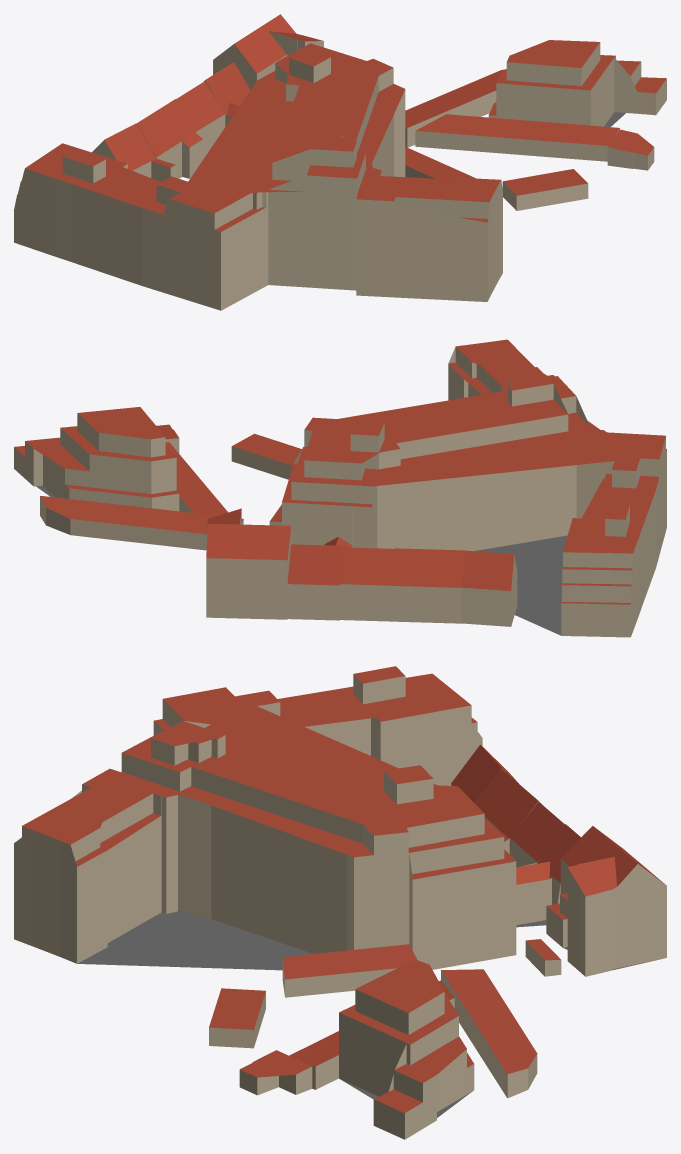
The model's file is ingolstadt_50_lod2_buildings.obj.
3 renders of one model, top to bottom at view 1: azimuth 30°, elevation 25°; view 2: azimuth 150°, elevation 25°; view 3: azimuth 270°, elevation 25°, orthographic. The views are drawn at different scales.
Visible parts, largest first — view 1: bldg_DEBY_L2_4392429, bldg_DEBY_L2_107777145, bldg_DEBY_L2_4392842, bldg_DEBY_L2_4392510, bldg_DEBY_L2_4392434, bldg_DEBY_L2_104848284, bldg_DEBY_L2_4392841, bldg_DEBY_L2_4392432, bldg_DEBY_L2_4392435, bldg_DEBY_L2_4392882, bldg_DEBY_L2_4392436, bldg_DEBY_L2_4392840; view 2: bldg_DEBY_L2_4392429, bldg_DEBY_L2_107777145, bldg_DEBY_L2_4392510, bldg_DEBY_L2_104848284, bldg_DEBY_L2_4392434, bldg_DEBY_L2_4392436, bldg_DEBY_L2_4392432, bldg_DEBY_L2_4392435, bldg_DEBY_L2_4392841, bldg_DEBY_L2_4392842; view 3: bldg_DEBY_L2_4392429, bldg_DEBY_L2_107777145, bldg_DEBY_L2_4392510, bldg_DEBY_L2_104848284, bldg_DEBY_L2_4392840, bldg_DEBY_L2_4392436, bldg_DEBY_L2_4392841, bldg_DEBY_L2_4392434, bldg_DEBY_L2_4392882, bldg_DEBY_L2_4392435, bldg_DEBY_L2_4392842, bldg_DEBY_L2_4392432 (+1 smaller).
Part boxes in pixels (x1,y1,x2,y2): bldg_DEBY_L2_4392429: [14, 43, 502, 310]; bldg_DEBY_L2_107777145: [488, 40, 666, 126]; bldg_DEBY_L2_4392842: [415, 114, 619, 161]; bldg_DEBY_L2_4392510: [213, 14, 323, 89]; bldg_DEBY_L2_4392434: [136, 99, 203, 178]; bldg_DEBY_L2_104848284: [405, 69, 506, 147]; bldg_DEBY_L2_4392841: [502, 169, 588, 210]; bldg_DEBY_L2_4392432: [92, 123, 175, 181]; bldg_DEBY_L2_4392435: [176, 81, 225, 158]; bldg_DEBY_L2_4392882: [607, 129, 654, 170]; bldg_DEBY_L2_4392436: [203, 62, 250, 126]; bldg_DEBY_L2_4392840: [405, 147, 476, 179]; bldg_DEBY_L2_4392429: [282, 339, 666, 637]; bldg_DEBY_L2_107777145: [14, 407, 179, 511]; bldg_DEBY_L2_4392510: [206, 508, 295, 619]; bldg_DEBY_L2_104848284: [40, 496, 243, 550]; bldg_DEBY_L2_4392434: [391, 548, 465, 623]; bldg_DEBY_L2_4392436: [287, 537, 352, 620]; bldg_DEBY_L2_4392432: [462, 550, 517, 626]; bldg_DEBY_L2_4392435: [339, 547, 394, 621]; bldg_DEBY_L2_4392841: [231, 433, 301, 479]; bldg_DEBY_L2_4392842: [165, 442, 227, 515]; bldg_DEBY_L2_4392429: [14, 666, 516, 970]; bldg_DEBY_L2_107777145: [339, 959, 474, 1139]; bldg_DEBY_L2_4392510: [546, 826, 666, 976]; bldg_DEBY_L2_104848284: [441, 969, 537, 1098]; bldg_DEBY_L2_4392840: [282, 944, 417, 997]; bldg_DEBY_L2_4392436: [516, 824, 580, 927]; bldg_DEBY_L2_4392841: [209, 988, 265, 1048]; bldg_DEBY_L2_4392434: [474, 768, 545, 854]; bldg_DEBY_L2_4392882: [239, 1050, 312, 1095]; bldg_DEBY_L2_4392435: [510, 801, 564, 867]; bldg_DEBY_L2_4392842: [289, 980, 454, 1089]; bldg_DEBY_L2_4392432: [451, 744, 518, 802].
Bounding box in the file's own units: 113 × 22.01 × 83.49.
